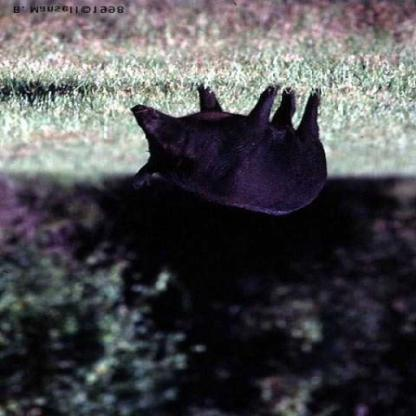boar: (112, 69, 378, 207)
